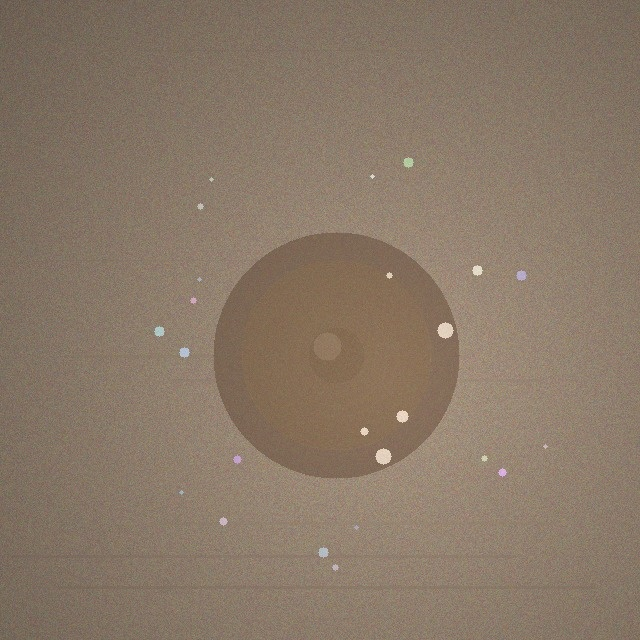overburn: (213, 232, 459, 478)
